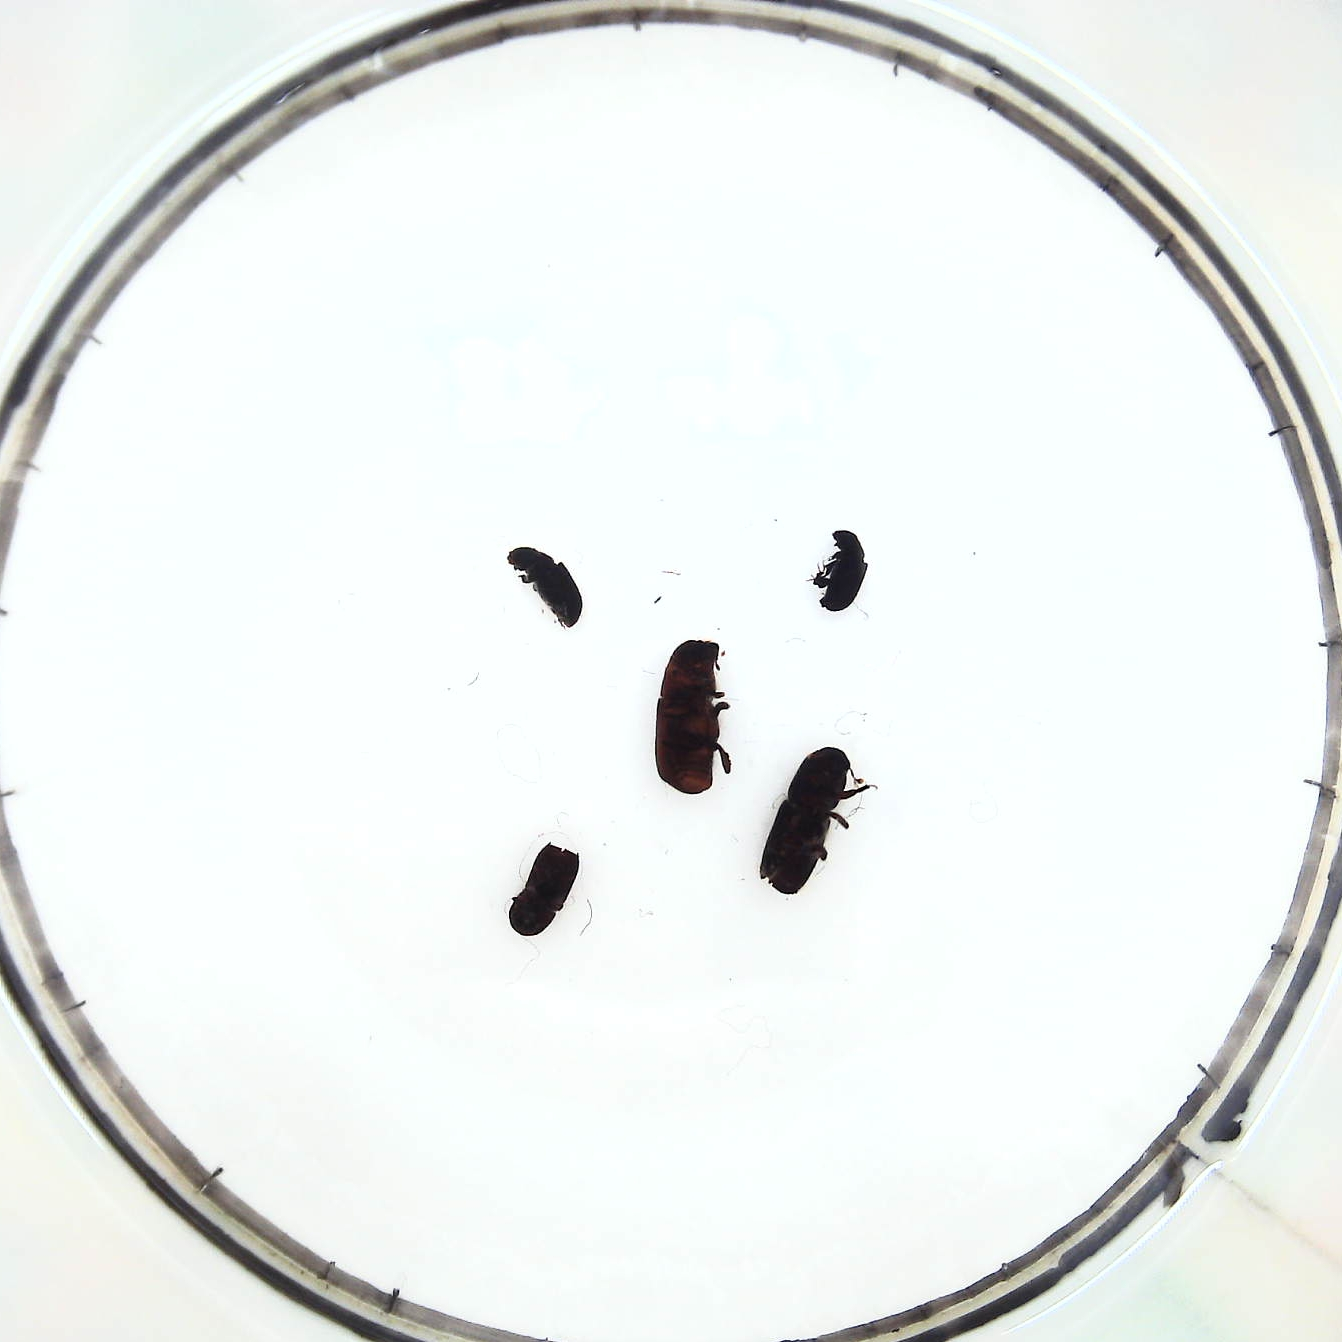Boerner: (759, 744, 854, 896)
Leconte: (656, 637, 729, 798)
Linnaeus: (511, 846, 580, 940)
armandi: (505, 540, 586, 626)
coleoptera: (818, 528, 873, 612)
